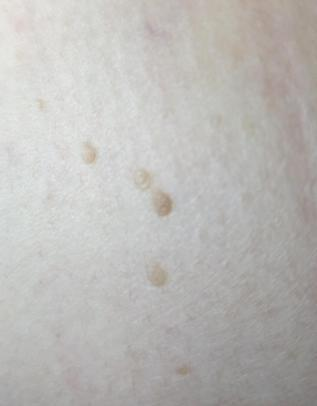flat_wart: (133, 255, 188, 308), (76, 127, 109, 181), (145, 190, 179, 226), (131, 158, 160, 190)
